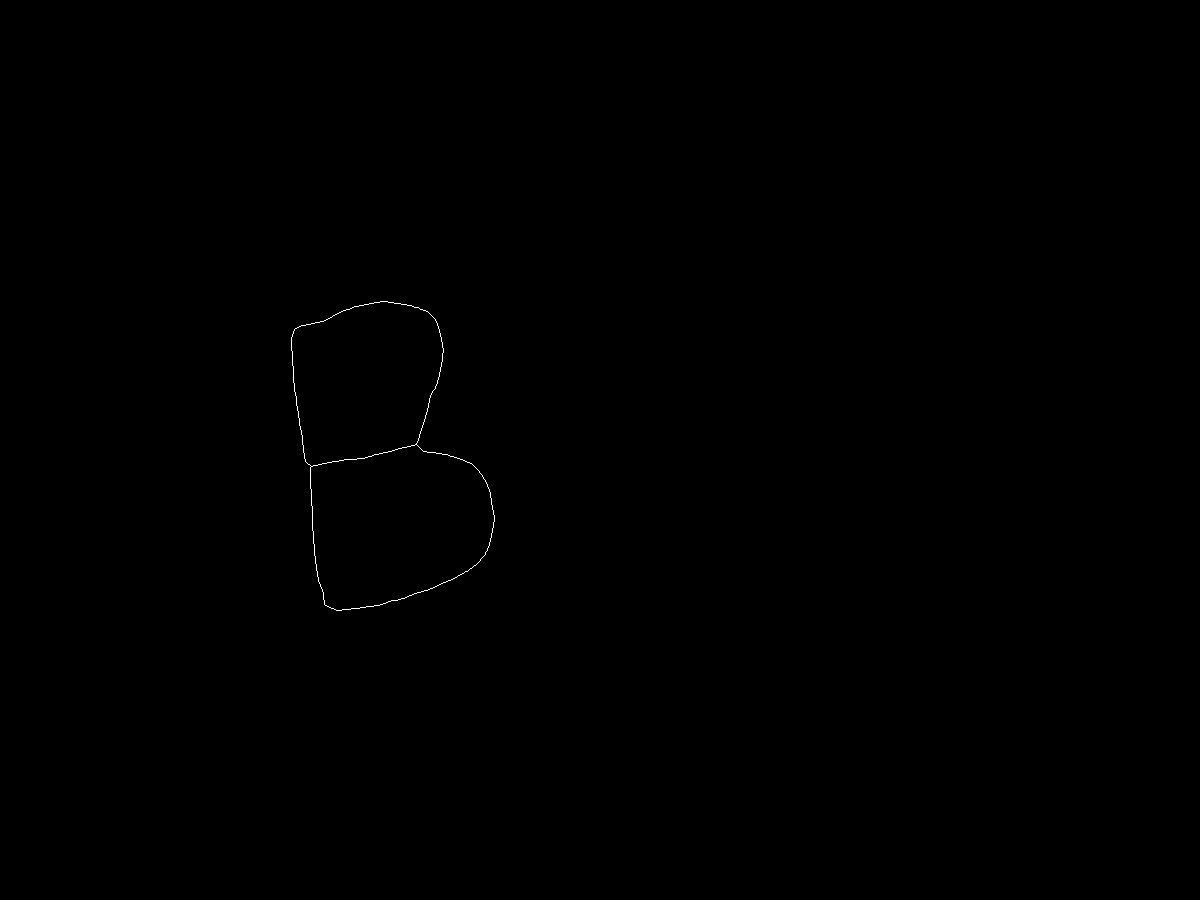dian1: (286, 321, 305, 340)
dian2: (302, 459, 321, 478)
dian3: (314, 598, 328, 612)
dian4: (409, 438, 424, 453)
